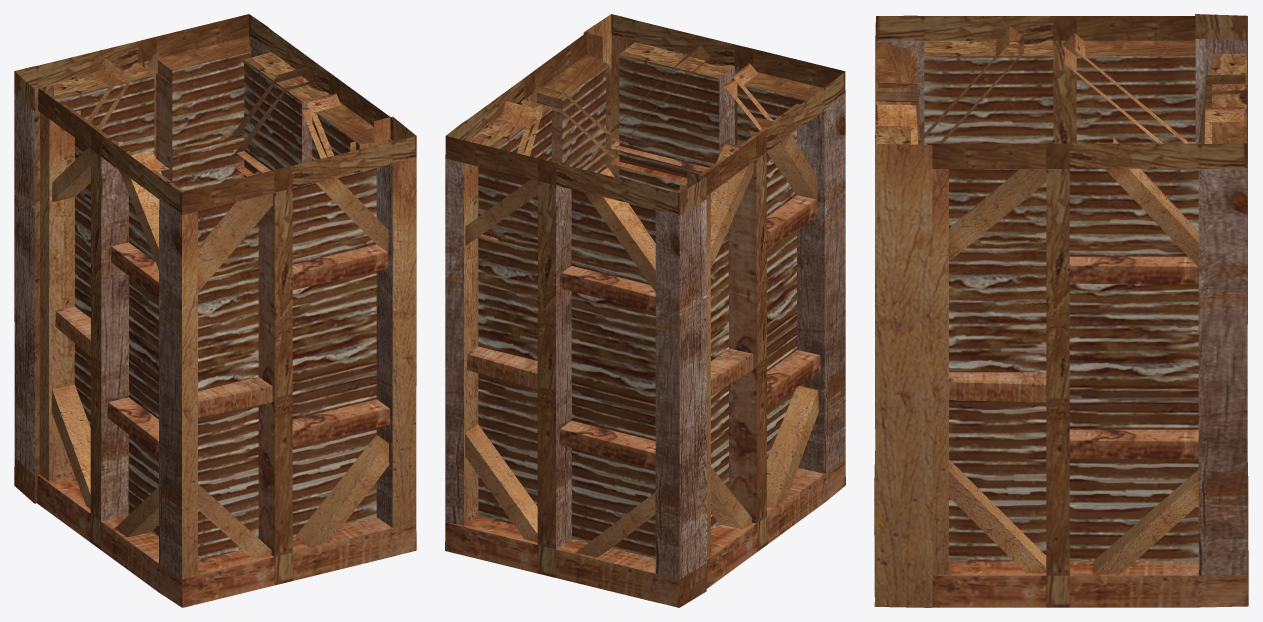
3 renders of one model, left to right at view 1: azimuth 30°, elevation 25°; view 2: azimuth 150°, elevation 25°; view 3: azimuth 270°, elevation 25°, orthographic. The views are drawn at different scales.
Parts seen in each view (by area): view 1: SP_Cube; view 2: SP_Cube; view 3: SP_Cube.
Boxes of the visible parts, box(x1,y1,x2,y2) form: SP_Cube: box(14, 14, 416, 607); SP_Cube: box(445, 14, 845, 607); SP_Cube: box(874, 14, 1248, 607).
Bounding box in the file's own units: 181 × 299 × 219.
